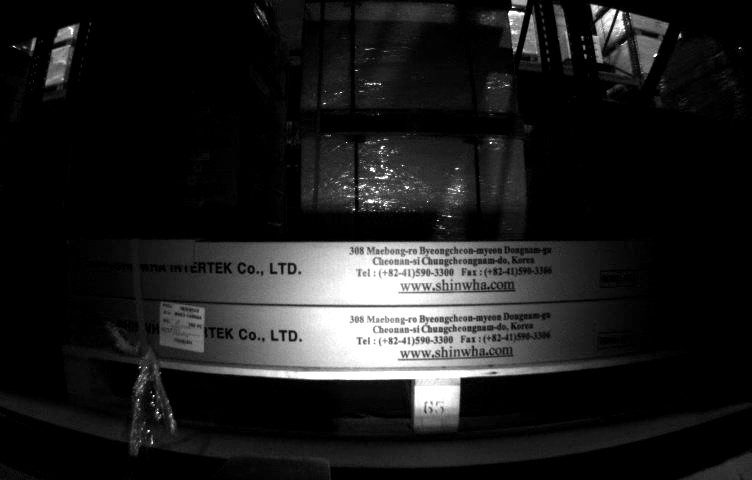True Barcode: (157, 300, 205, 351)
